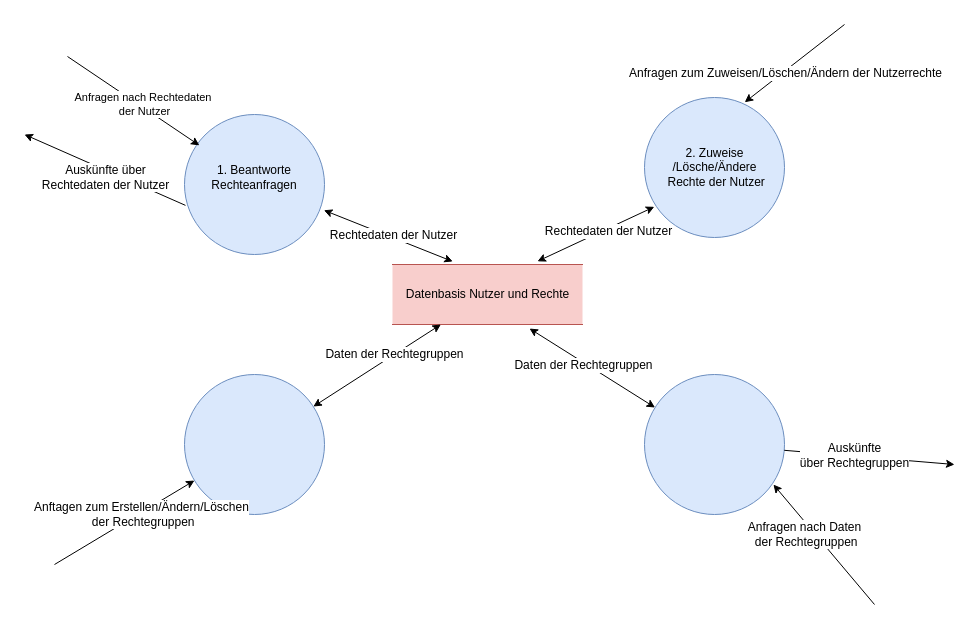
Image size: 980x630. Some labels were removed from this diagram. The shapes that lost their labels are listed below. From the top down, each one's centre as x and y in pixels, then its label:
At point (254, 444): "3. Erstelle/Lösche /Ändere Rechtegruppe".
At point (714, 444): "4. Beantworte Anfragen zur Daten der Rechtegruppen".
